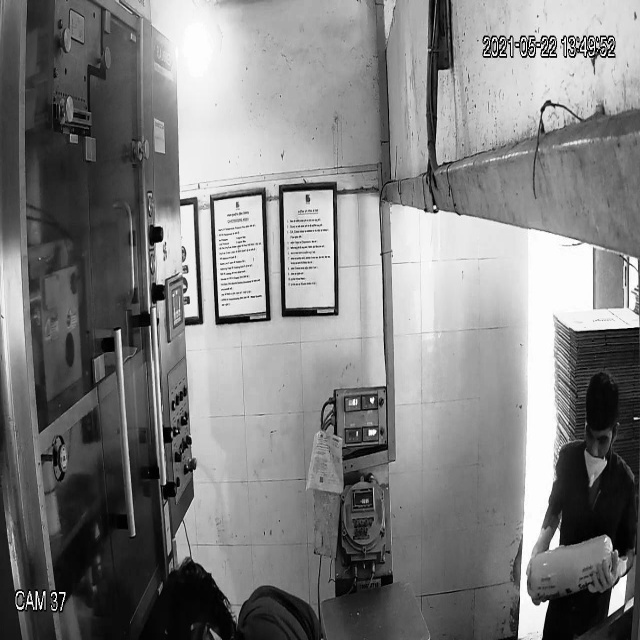Sin_gafas: (581, 420, 617, 452)
